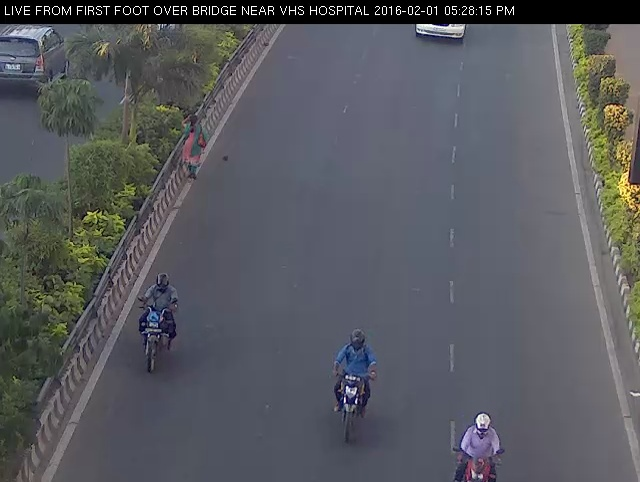Car: (410, 20, 475, 47)
Person: (320, 320, 384, 452), (134, 267, 183, 381), (448, 399, 509, 482), (175, 105, 211, 187)
